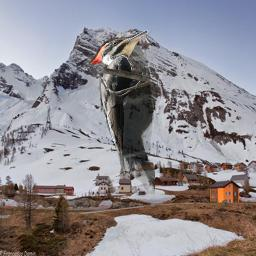Woodpecker: (89, 30, 155, 198)
